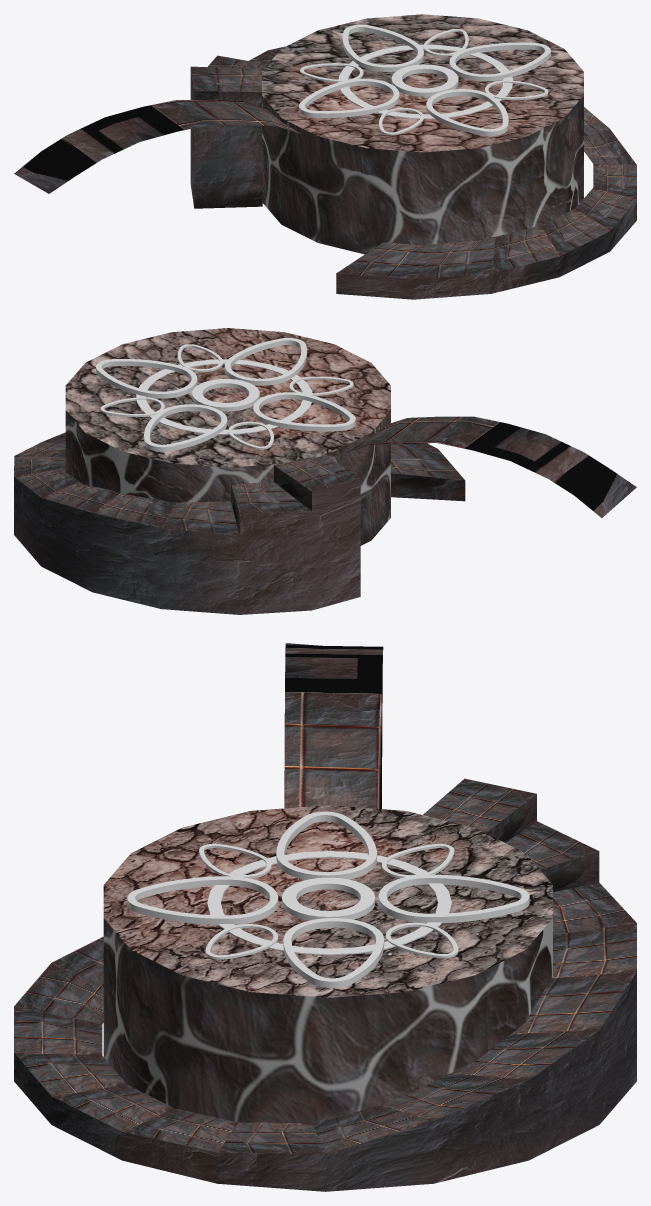
Rendered from Role.FBX.
The picture shows the model from 3 angles, top to bottom: view 1: azimuth 30°, elevation 25°; view 2: azimuth 150°, elevation 25°; view 3: azimuth 270°, elevation 25°; orthographic projection. The views are drawn at different scales.
Visible parts, largest first — view 1: Cylinder003, RotStair, bridge, Donut002, Egg003, Egg002, Egg004, Egg001, Donut001, Egg008, Egg005, Egg006; view 2: RotStair, Cylinder003, bridge, Donut002, Egg002, Egg003, Egg001, Egg004, Donut001, Egg007, Egg006, Egg005 (+1 smaller); view 3: Cylinder003, RotStair, bridge, Donut002, Egg001, Egg004, Egg003, Egg002, Donut001, Egg008, Egg007, Egg006.
Part boxes in pixels (x1=…): Cylinder003: x1=262, y1=14, x2=583, y2=254; RotStair: x1=190, y1=46, x2=636, y2=299; bridge: x1=14, y1=100, x2=300, y2=193; Donut002: x1=338, y1=44, x2=513, y2=119; Egg003: x1=449, y1=42, x2=550, y2=81; Egg002: x1=299, y1=78, x2=399, y2=117; Egg004: x1=426, y1=89, x2=508, y2=135; Egg001: x1=342, y1=24, x2=423, y2=71; Donut001: x1=391, y1=64, x2=458, y2=96; Egg008: x1=485, y1=80, x2=548, y2=100; Egg005: x1=300, y1=63, x2=363, y2=82; Egg006: x1=379, y1=107, x2=423, y2=135; RotStair: x1=14, y1=432, x2=465, y2=614; Cylinder003: x1=65, y1=328, x2=390, y2=545; bridge: x1=347, y1=416, x2=636, y2=517; Donut002: x1=136, y1=359, x2=312, y2=434; Egg002: x1=253, y1=392, x2=355, y2=431; Egg003: x1=96, y1=359, x2=197, y2=398; Egg001: x1=144, y1=404, x2=227, y2=451; Egg004: x1=224, y1=338, x2=306, y2=385; Donut001: x1=192, y1=379, x2=259, y2=411; Egg007: x1=100, y1=397, x2=164, y2=417; Egg006: x1=289, y1=376, x2=353, y2=396; Egg005: x1=228, y1=421, x2=273, y2=449; Cylinder003: x1=103, y1=805, x2=552, y2=1123; RotStair: x1=14, y1=778, x2=636, y2=1191; bridge: x1=284, y1=643, x2=383, y2=808; Donut002: x1=207, y1=851, x2=451, y2=955; Egg001: x1=378, y1=874, x2=529, y2=923; Egg004: x1=127, y1=876, x2=278, y2=924; Egg003: x1=283, y1=918, x2=384, y2=987; Egg002: x1=276, y1=811, x2=376, y2=879; Donut001: x1=282, y1=877, x2=375, y2=920; Egg008: x1=205, y1=924, x2=278, y2=959; Egg007: x1=385, y1=922, x2=458, y2=958; Egg006: x1=199, y1=843, x2=271, y2=878.
Bounding box in the file's own units: 271 × 64.74 × 182.
